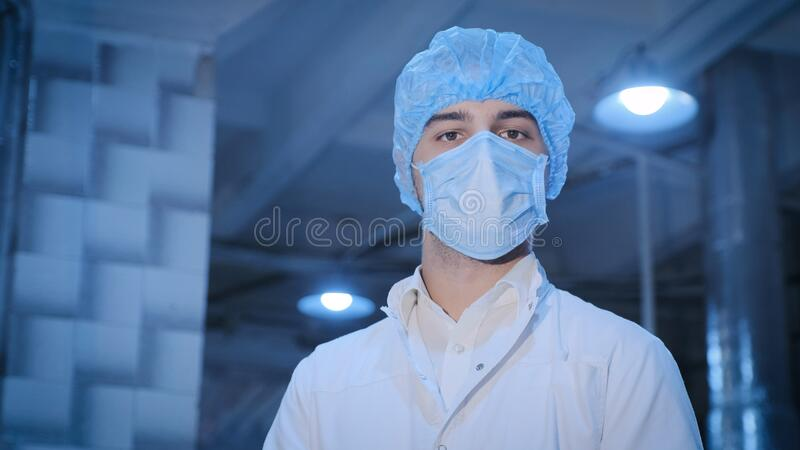with_mask_and_cap: (395, 29, 557, 263)
